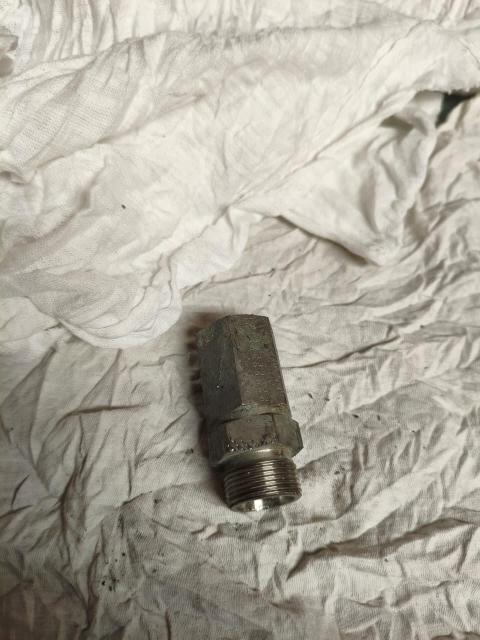Metal: (190, 313, 302, 515)
